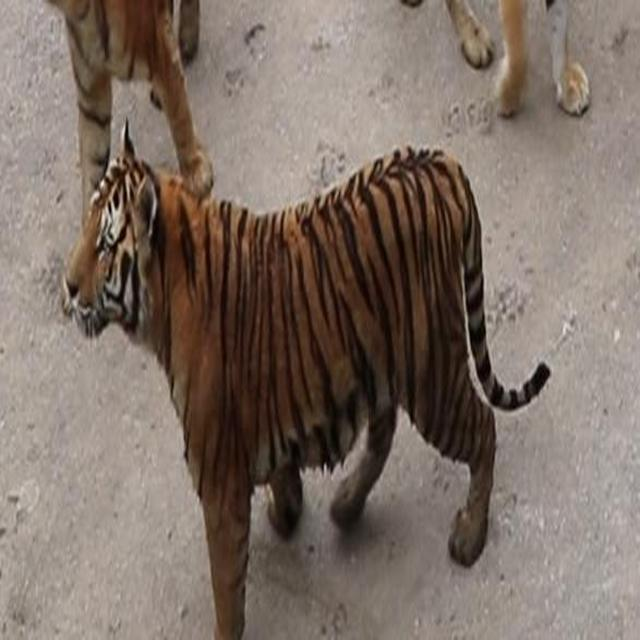tiger: (46, 110, 557, 640), (38, 0, 244, 307), (389, 0, 605, 138)
